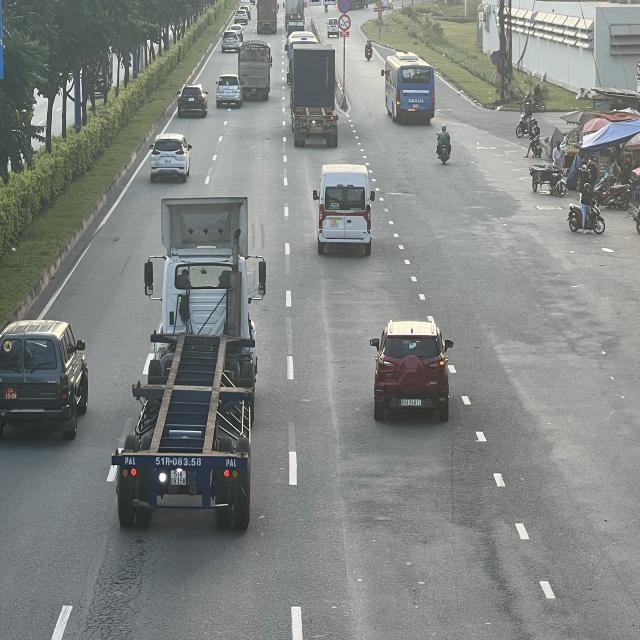car: (0, 317, 87, 437), (371, 319, 453, 423), (152, 132, 195, 182), (176, 84, 209, 120), (214, 76, 242, 109), (220, 27, 242, 52)
coach: (384, 52, 438, 121)
container: (112, 199, 263, 532), (290, 47, 341, 148)
van: (313, 164, 375, 255)
